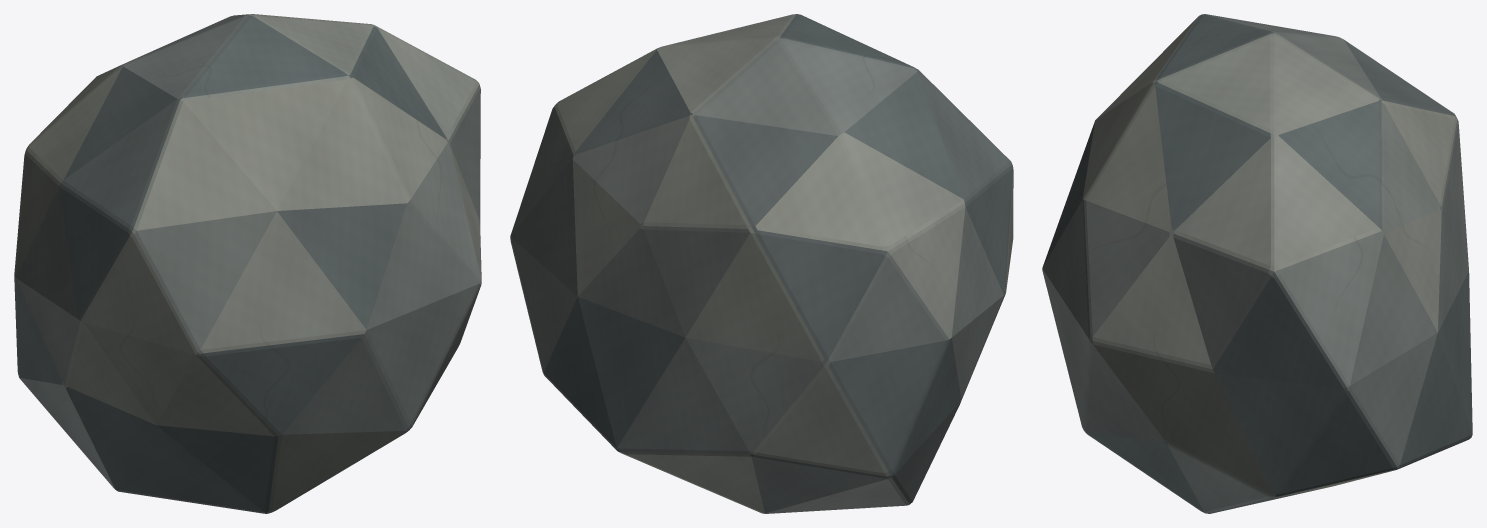
Rendered from forest_boulder.glb.
3 views of the same model, side by side, from view 1: azimuth 30°, elevation 25°; view 2: azimuth 150°, elevation 25°; view 3: azimuth 270°, elevation 25° (orthographic). The views are drawn at different scales.
Visible parts, largest first — view 1: Angular mossy forest boulder; view 2: Angular mossy forest boulder; view 3: Angular mossy forest boulder.
Part boxes in pixels (x1,y1,x2,y2): Angular mossy forest boulder: (14,14,481,513); Angular mossy forest boulder: (510,14,1013,513); Angular mossy forest boulder: (1042,14,1472,513).
Bounding box in the file's own units: 1.01 × 0.9937 × 0.8385.
3 materials, 3 textured.
